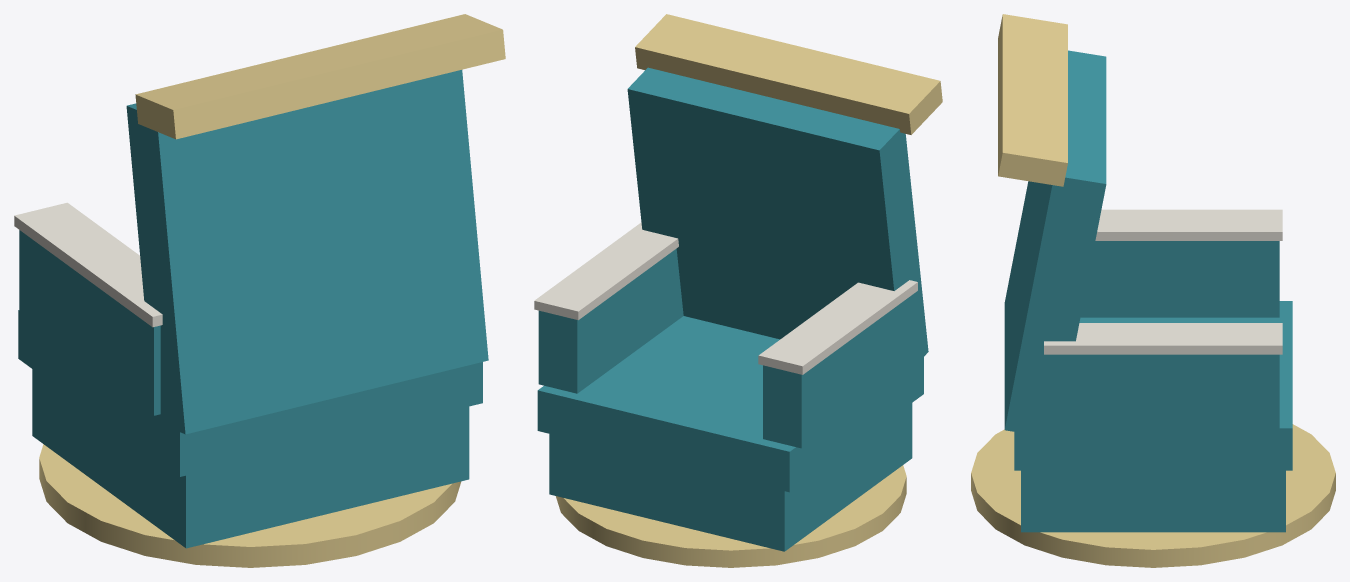
File: bb_set_diarychair.fbx
The picture shows the model from 3 angles, left to right: view 1: azimuth 30°, elevation 25°; view 2: azimuth 150°, elevation 25°; view 3: azimuth 270°, elevation 25°; orthographic projection. The views are drawn at different scales.
Visible parts, largest first — view 1: bb_set_diarychair; view 2: bb_set_diarychair; view 3: bb_set_diarychair.
Boxes of the visible parts, x1=… form: bb_set_diarychair: x1=14, y1=14, x2=505, y2=567; bb_set_diarychair: x1=534, y1=14, x2=942, y2=567; bb_set_diarychair: x1=971, y1=14, x2=1335, y2=567.
Bounding box in the file's own units: 1.1 × 1.36 × 1.1.
